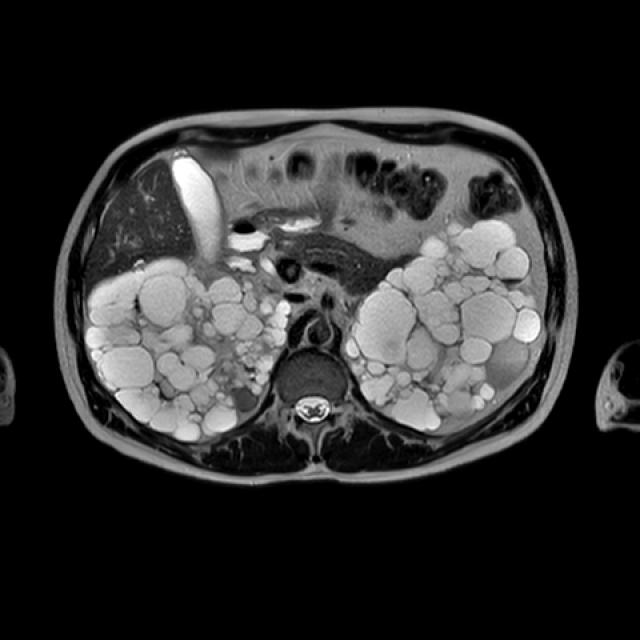sag: (85, 255, 294, 444)
sol: (342, 217, 543, 433)
